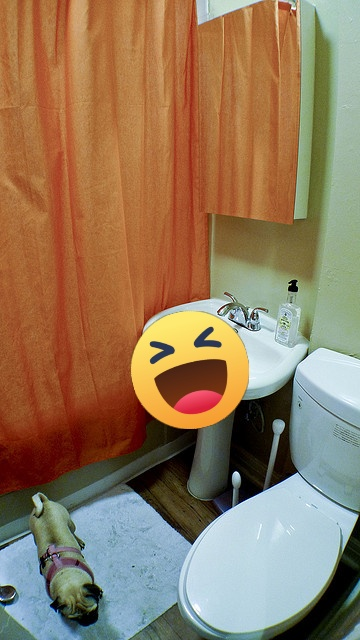haha: (131, 311, 249, 429)
